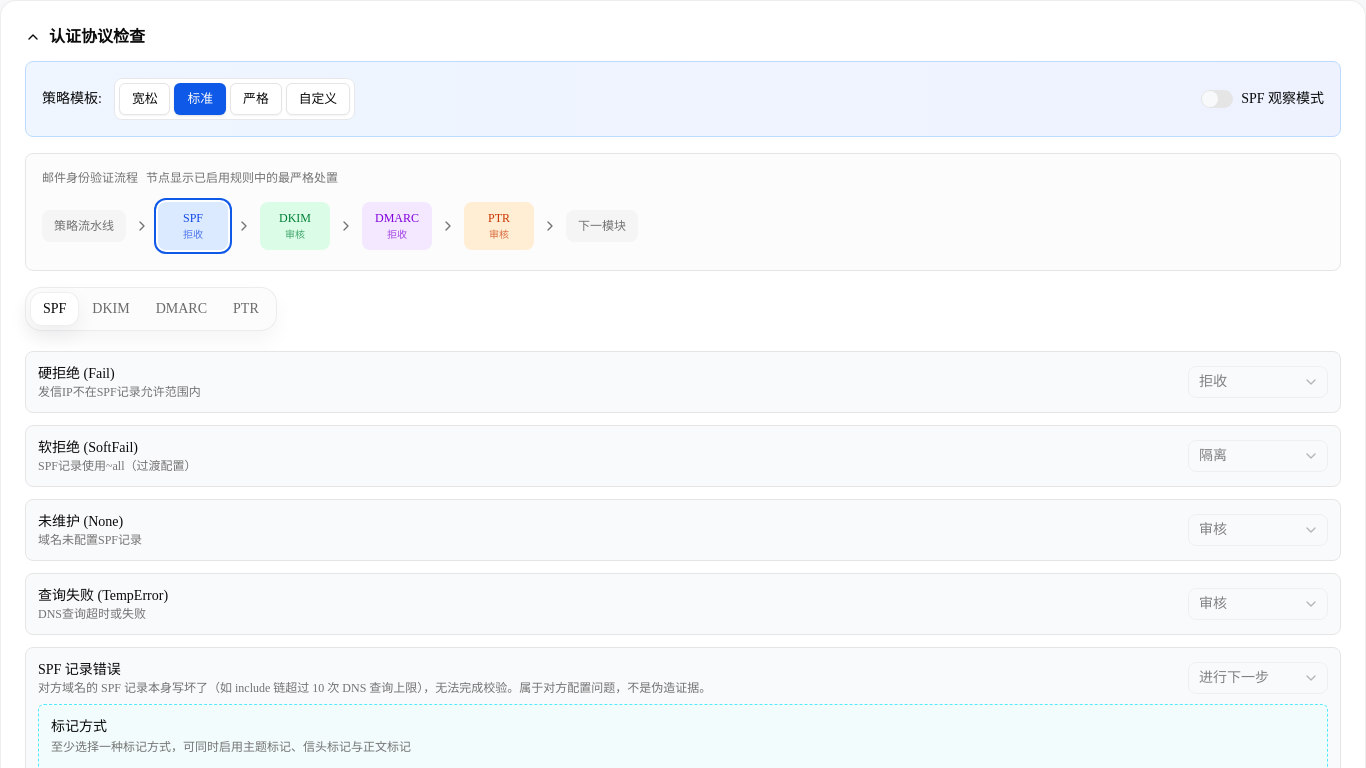
Scenario: ProtocolChecksSection › shows the product-approved concise description when switching to the loose template
The image size is (1366, 768).
Click the button "宽松".
click(145, 99)  # box [119,83,170,115]
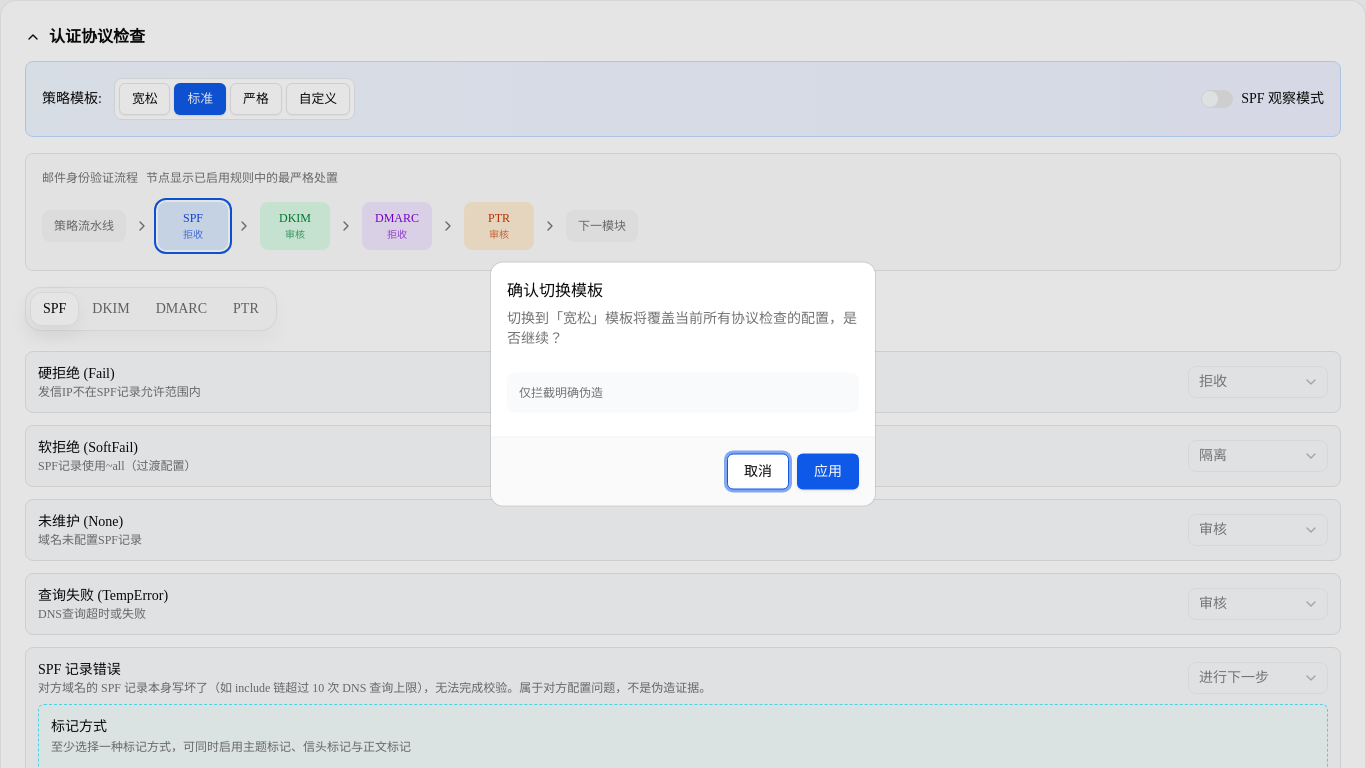
Check: the text "仅拦截明确伪造" is shown, box [519,386,603,400]
